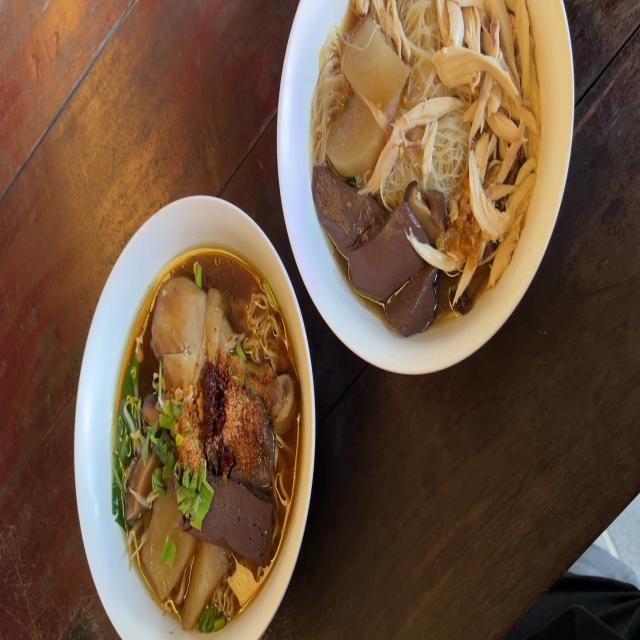noodle: (308, 0, 547, 306), (125, 265, 307, 600)
